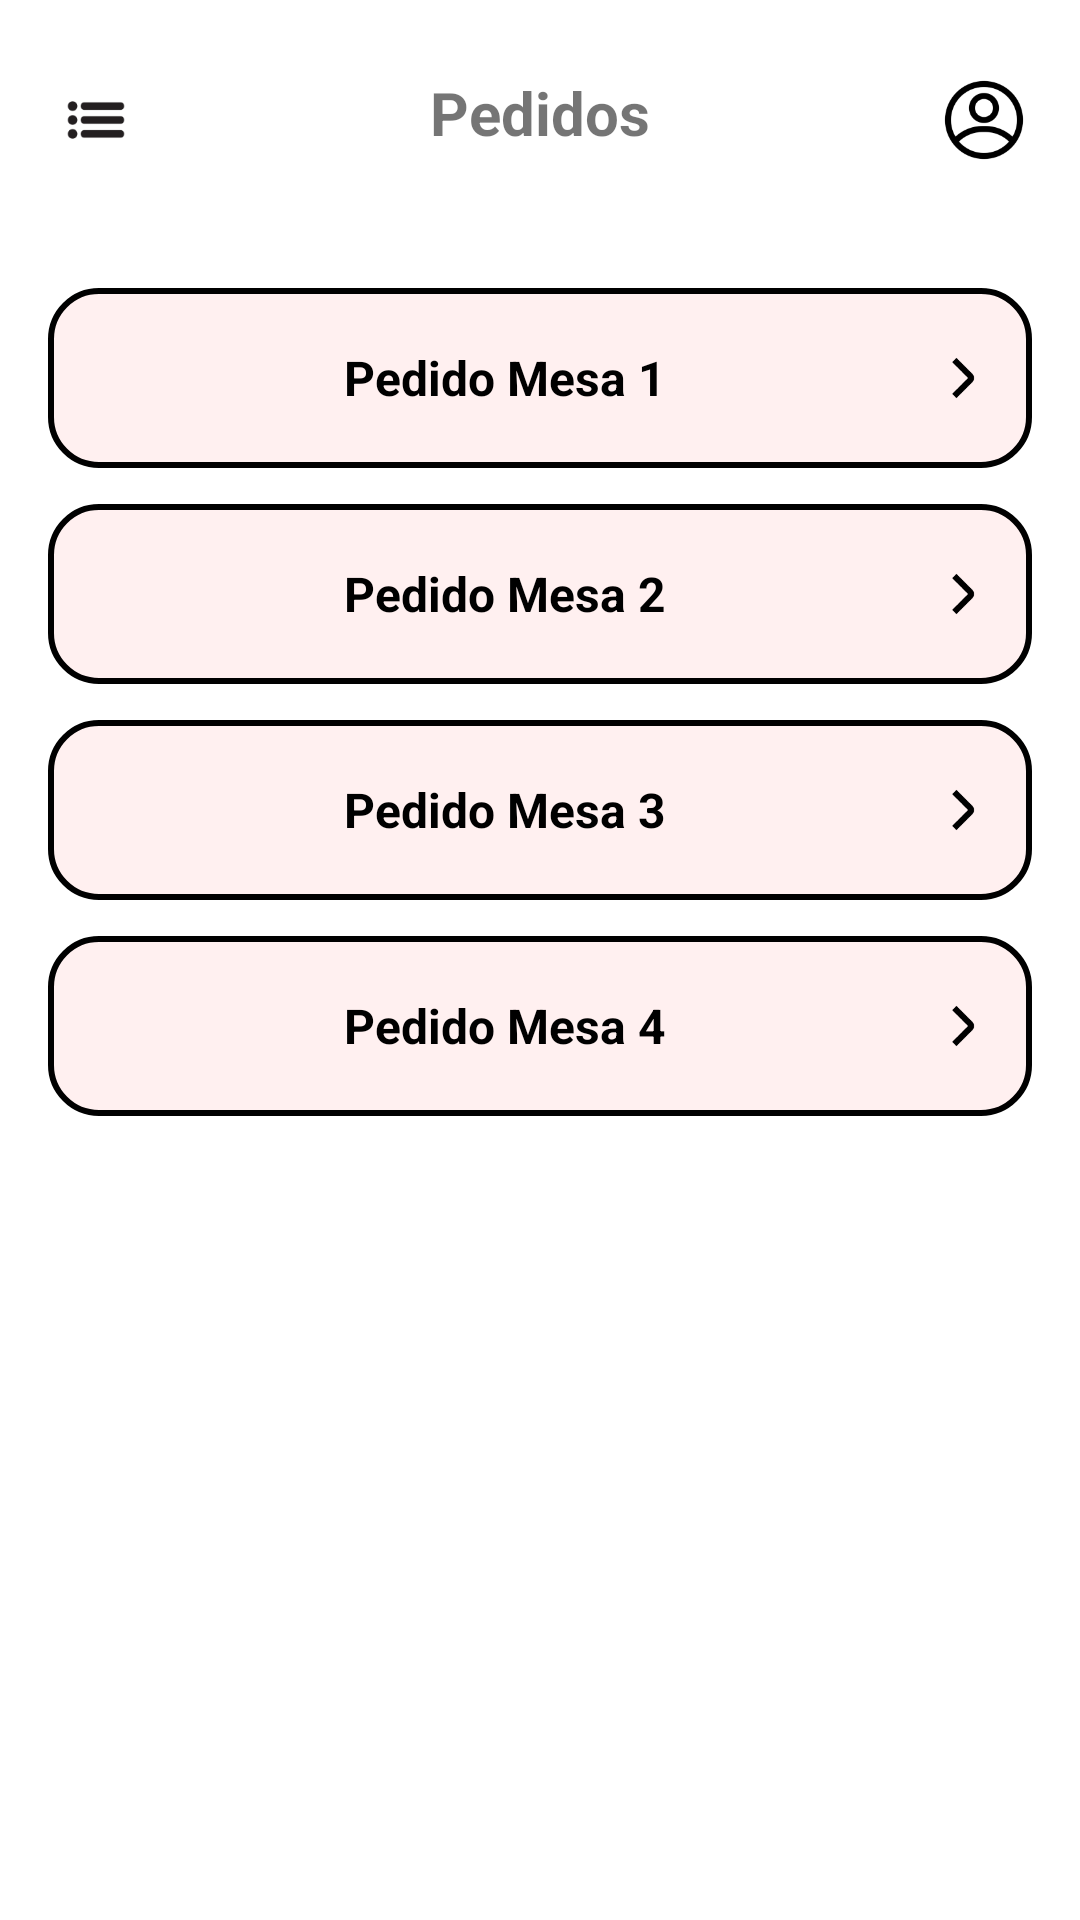

Icon click points for this 1080x1920 phone screenshot, format point (x, y):
Menú: point (96, 120)
Perfil: point (984, 120)
Ver más: point (963, 378), point (963, 594), point (963, 810), point (963, 1026)
